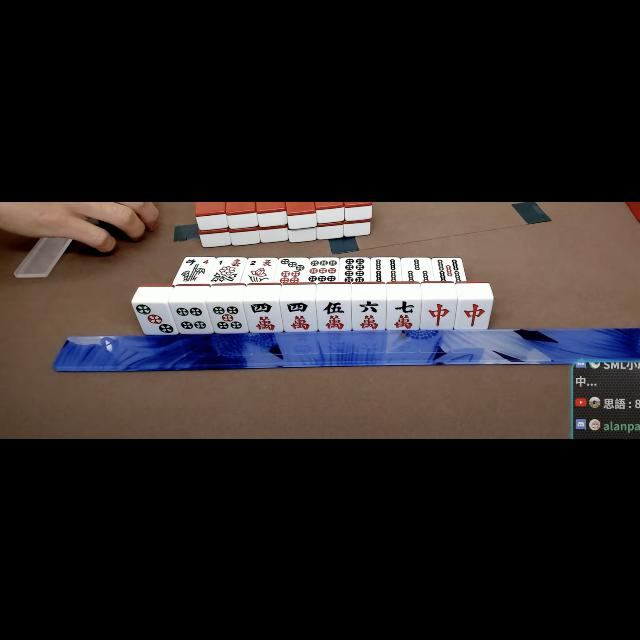b3: (402, 258, 432, 282)
b4: (372, 257, 401, 283)
b5: (434, 257, 466, 281)
c4: (247, 300, 280, 332), (283, 300, 315, 332)
c5: (318, 299, 350, 331)
c6: (353, 299, 385, 331)
c7: (388, 298, 420, 329)
d3: (134, 302, 174, 334)
d4: (172, 301, 210, 333)
d5: (210, 302, 244, 332)
d7: (277, 256, 307, 282)
d8: (339, 256, 369, 282)
d9: (308, 258, 338, 282)
dr: (458, 299, 490, 329), (422, 299, 454, 329)
f4: (178, 255, 215, 265)
s1: (214, 256, 243, 268)
s2: (246, 257, 276, 267)
